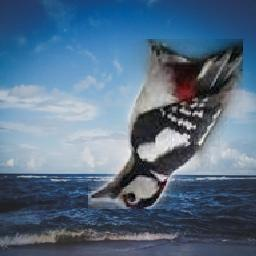Woodpecker: (89, 39, 244, 209)
